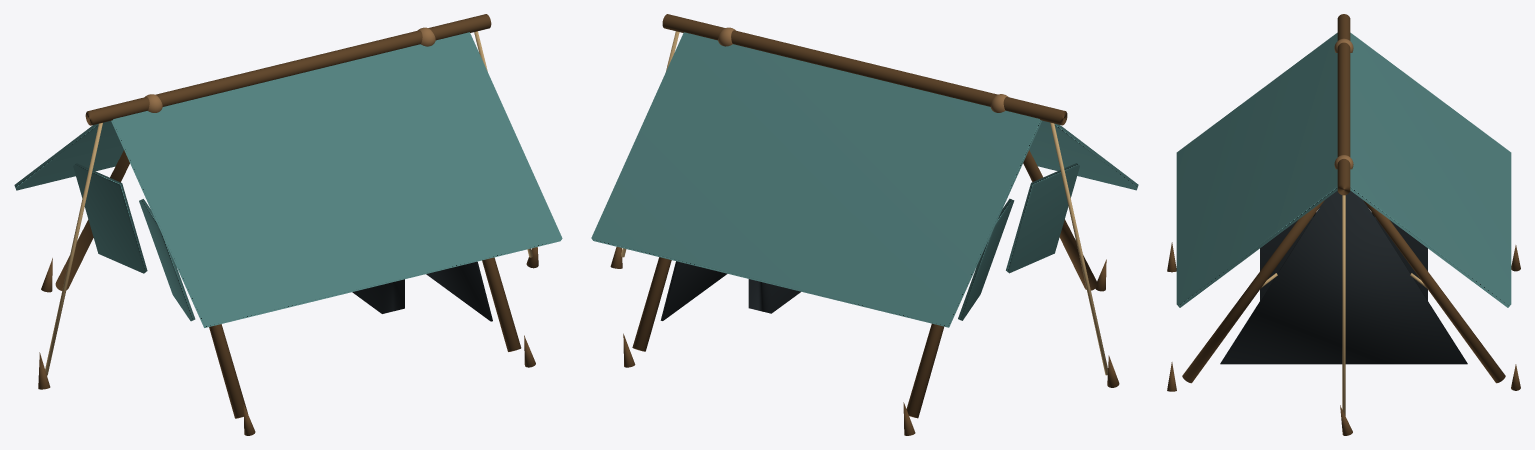
Rendered from 3D模型 props_tent.glb.
The picture shows the model from 3 angles, left to right: view 1: azimuth 30°, elevation 25°; view 2: azimuth 150°, elevation 25°; view 3: azimuth 270°, elevation 25°; orthographic projection. The views are drawn at different scales.
Visible parts, largest first — view 1: part_canvas_0, part_ridge, part_flap_1, part_canvas_1, part_back_panel, part_flap_0, part_frame_1_0, part_frame_0_0, part_guy_0, part_frame_0_1, part_inner; view 2: part_canvas_1, part_ridge, part_flap_0, part_canvas_0, part_back_panel, part_flap_1, part_frame_1_1, part_frame_0_1, part_inner, part_guy_0, part_frame_0_0; view 3: part_canvas_0, part_canvas_1, part_back_panel, part_frame_1_0, part_frame_1_1, part_ridge, part_inner, part_guy_1.
Boxes of the visible parts, x1,y1,x2,y2 form: part_canvas_0: [111, 32, 562, 327]; part_ridge: [85, 14, 491, 125]; part_flap_1: [73, 163, 147, 273]; part_canvas_1: [14, 121, 123, 190]; part_back_panel: [426, 261, 492, 321]; part_flap_0: [139, 199, 195, 321]; part_frame_1_0: [482, 257, 521, 351]; part_frame_0_0: [209, 324, 247, 418]; part_guy_0: [45, 123, 102, 375]; part_frame_0_1: [55, 150, 129, 290]; part_inner: [352, 279, 404, 313]; part_canvas_1: [591, 32, 1041, 327]; part_ridge: [662, 14, 1067, 125]; part_flap_0: [1006, 163, 1079, 273]; part_canvas_0: [1029, 120, 1138, 190]; part_back_panel: [660, 261, 727, 320]; part_flap_1: [958, 198, 1014, 320]; part_frame_1_1: [632, 257, 671, 351]; part_frame_0_1: [906, 323, 943, 418]; part_inner: [748, 279, 800, 313]; part_guy_0: [1050, 122, 1107, 375]; part_frame_0_0: [1023, 150, 1097, 290]; part_canvas_0: [1176, 32, 1337, 307]; part_canvas_1: [1350, 32, 1511, 307]; part_back_panel: [1220, 191, 1467, 364]; part_frame_1_0: [1182, 200, 1324, 383]; part_frame_1_1: [1363, 200, 1505, 383]; part_ridge: [1337, 14, 1350, 195]; part_inner: [1260, 212, 1427, 300]; part_guy_1: [1342, 195, 1345, 415].
Bounding box in the file's own units: 2.66 × 1.34 × 1.85.
